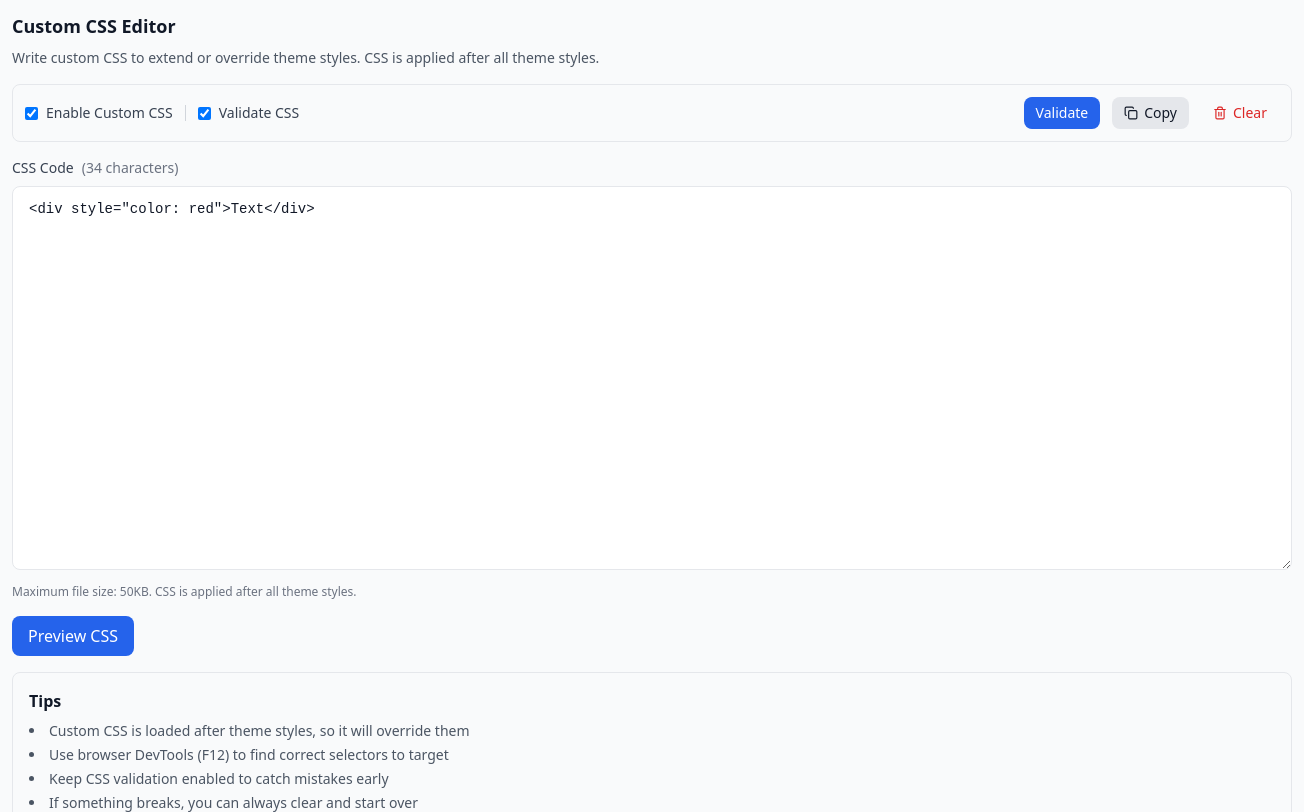
CustomCSSEditor › CSS Validation › should detect inline styles error
Step 1. Click the button "Validate" → (1062, 113), box [1024,97,1100,129]
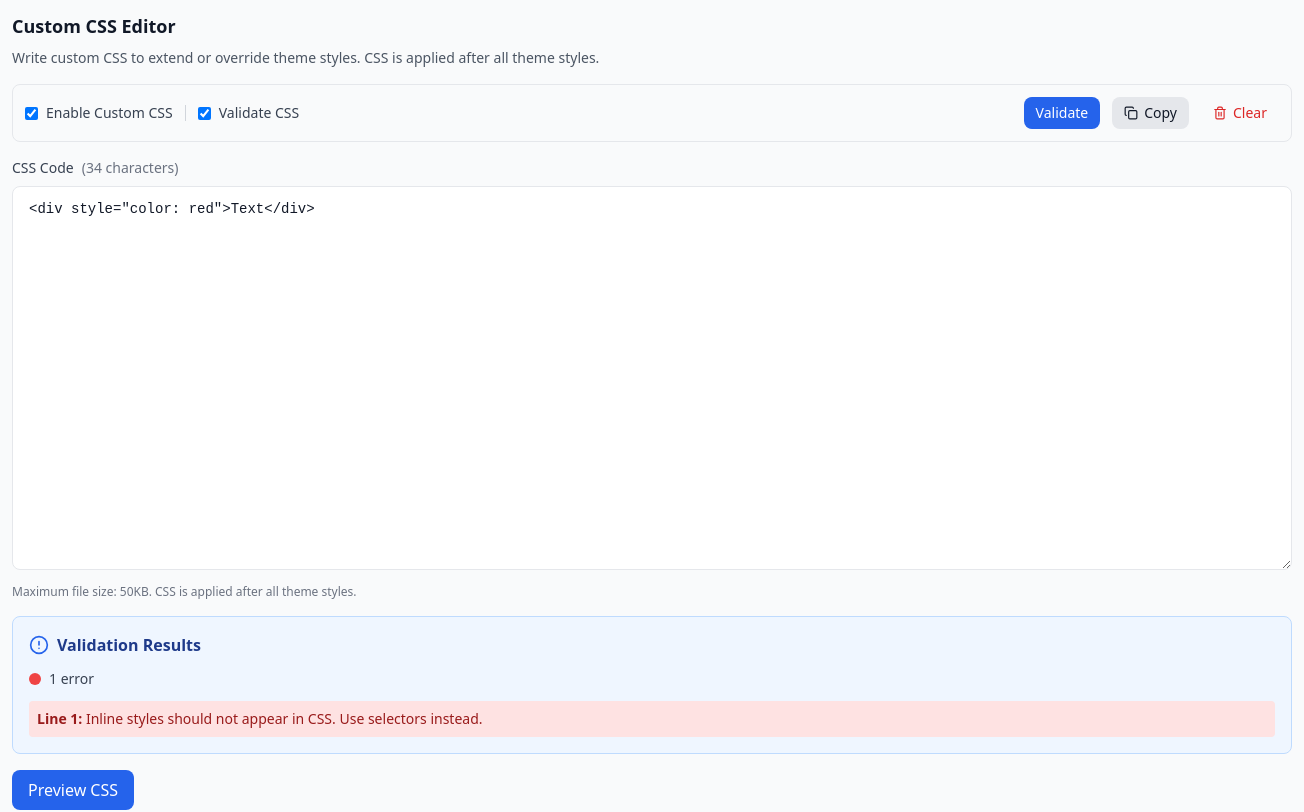
Result: the text "Inline styles should not appear" is shown at [86,709,483,728]
